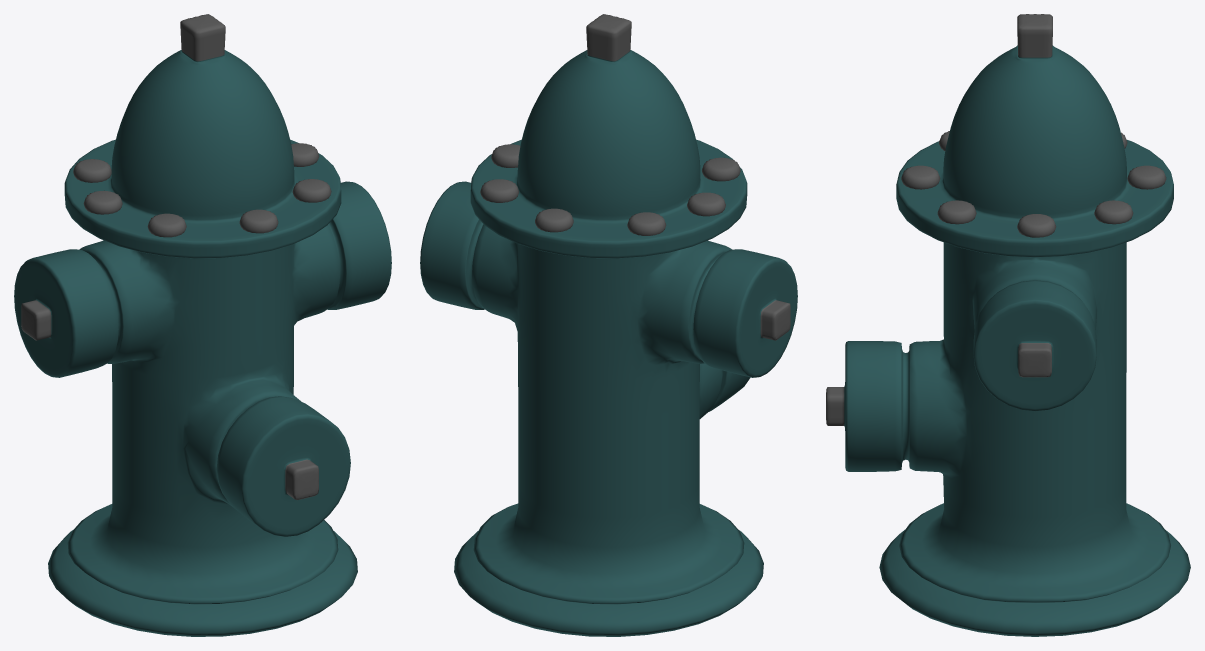
The model's file is Hydrant.fbx.
3 renders of one model, left to right at view 1: azimuth 30°, elevation 25°; view 2: azimuth 150°, elevation 25°; view 3: azimuth 270°, elevation 25°, orthographic.
Visible parts, largest first — view 1: polySurface6; view 2: polySurface6; view 3: polySurface6.
Part boxes in pixels (x1=…): polySurface6: x1=14, y1=14, x2=391, y2=636; polySurface6: x1=420, y1=14, x2=797, y2=636; polySurface6: x1=826, y1=14, x2=1190, y2=636.
Size of the model in its own units: 4.37 by 6.62 by 3.94.
